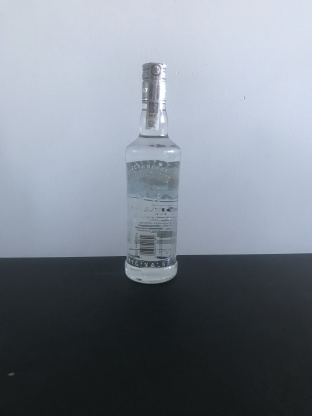nakretka: (139, 58, 169, 106)
